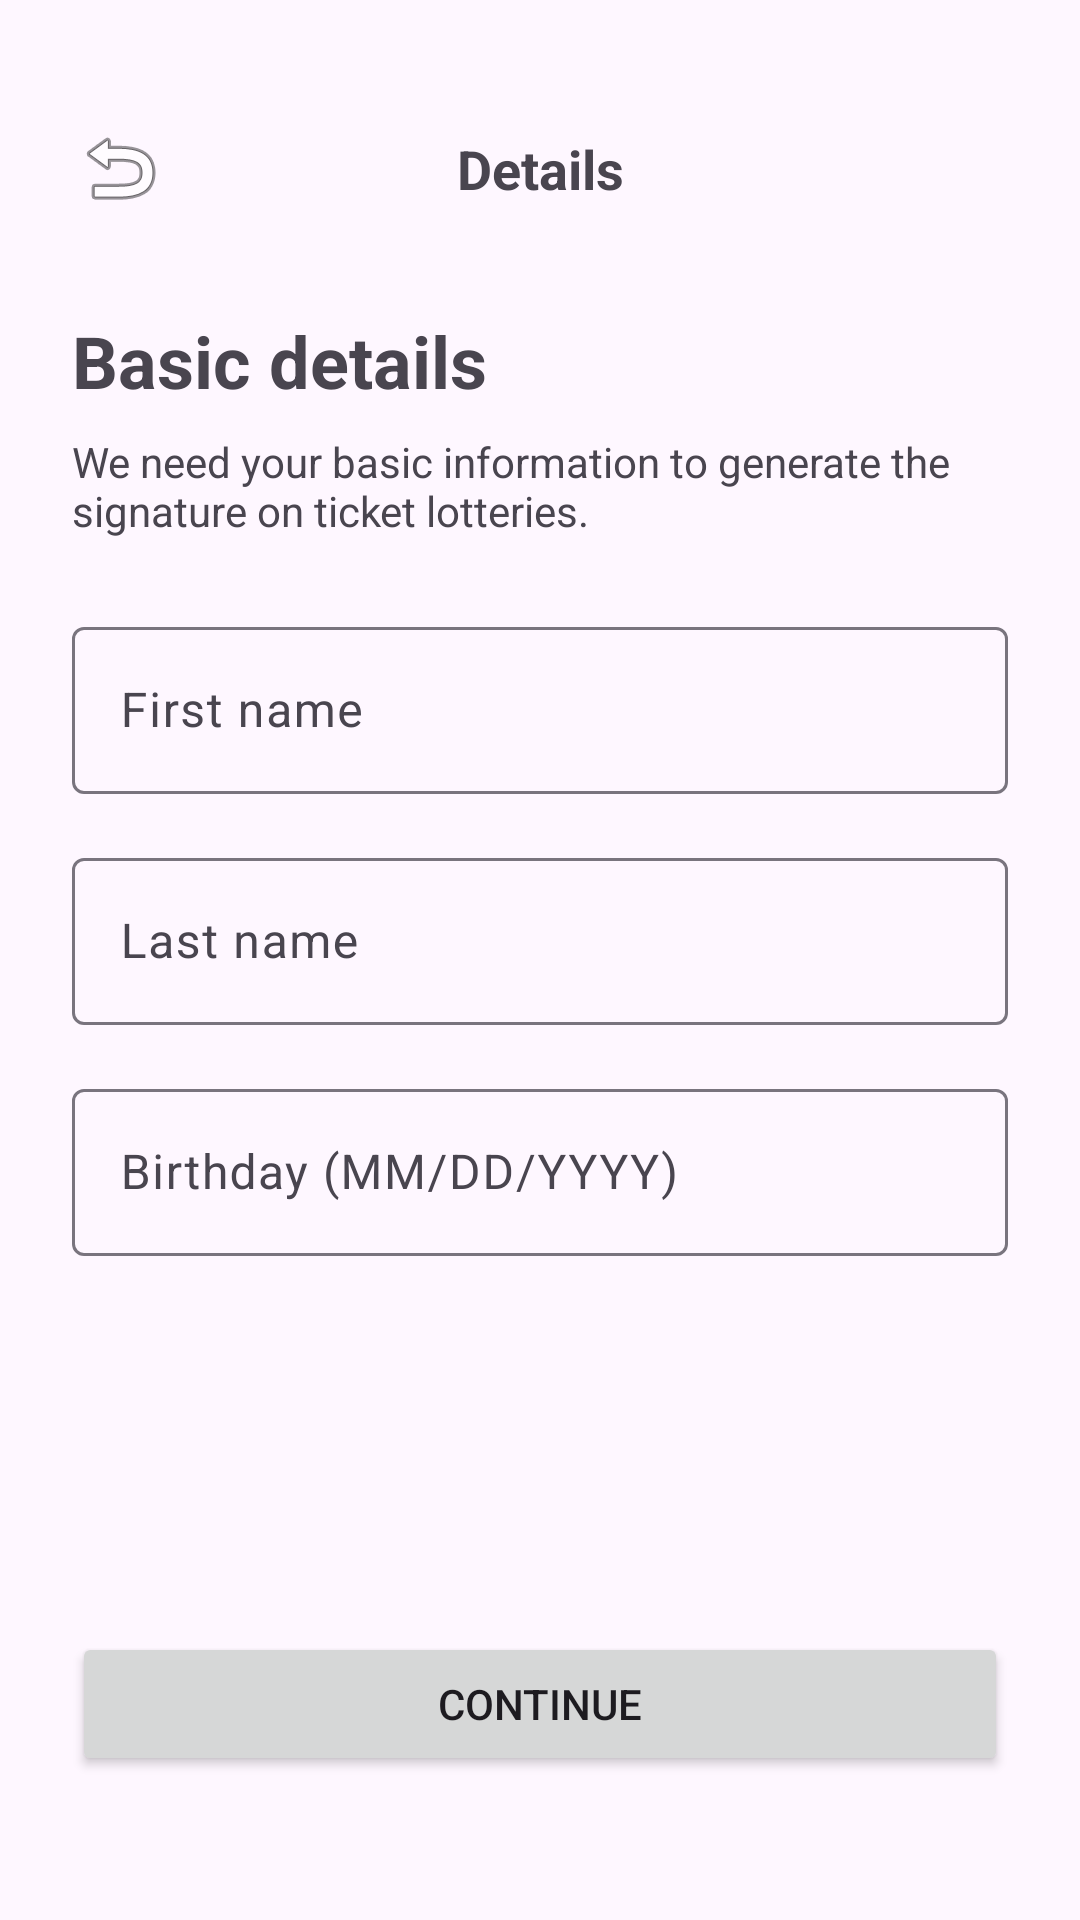

Named icons in this screenshot (1080*1920) and their bounding boxes, box(x1, y1, x2, y2):
revert: box(87, 137, 156, 200)
